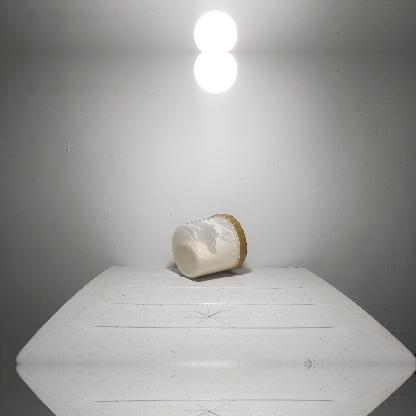Lady-s-Choice: (172, 212, 246, 278)
